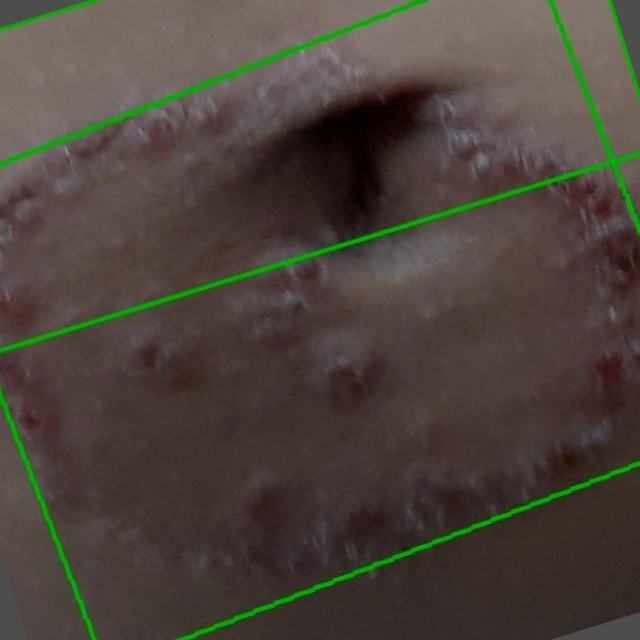Tinea Corporis: (0, 0, 639, 639), (0, 0, 639, 350)
